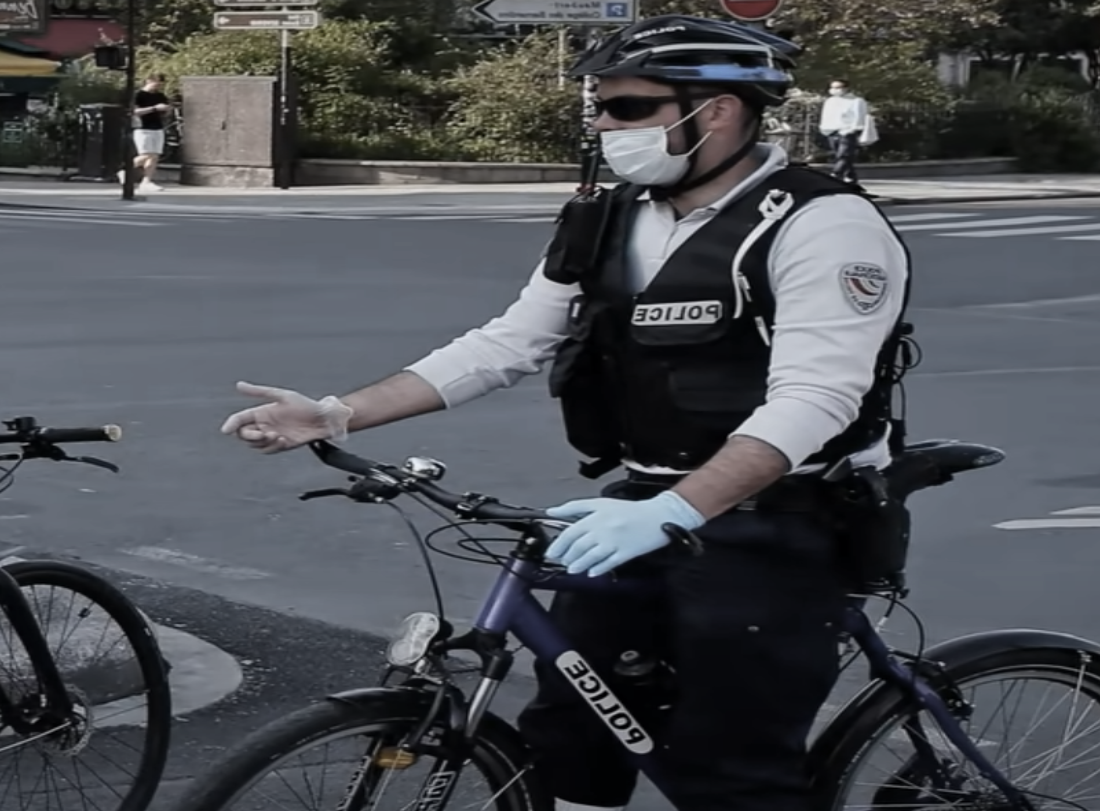mask_weared_incorrect: (583, 22, 781, 196)
